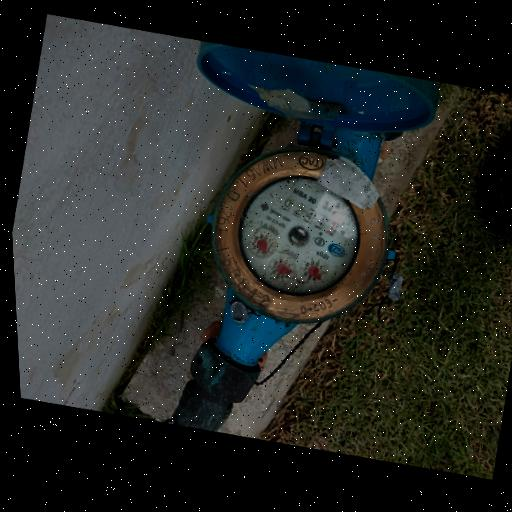0: (279, 194, 296, 213)
1: (323, 218, 339, 237)
2: (290, 200, 306, 218)
4: (301, 206, 317, 224), (312, 212, 328, 230)
border_water_meter_number: (275, 190, 344, 240)
